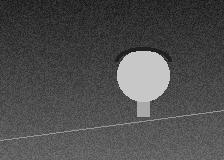no_helmet: (117, 47, 169, 106)
